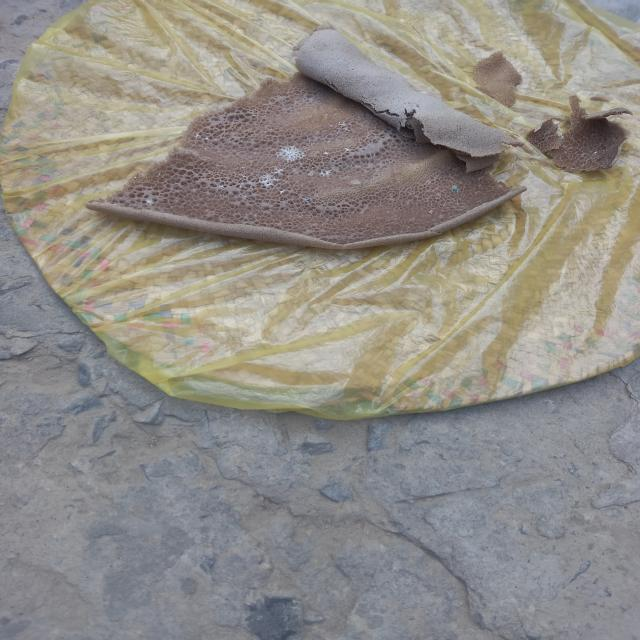injera_mold: (254, 166, 288, 194), (275, 143, 307, 162), (332, 119, 353, 135), (296, 193, 316, 207), (317, 167, 336, 178), (449, 182, 464, 195), (145, 197, 157, 208)
